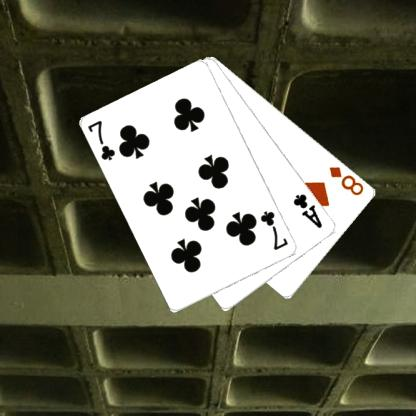7C: (85, 117, 117, 162), (258, 208, 290, 252)
8D: (326, 164, 365, 197)
AC: (291, 191, 324, 230)
